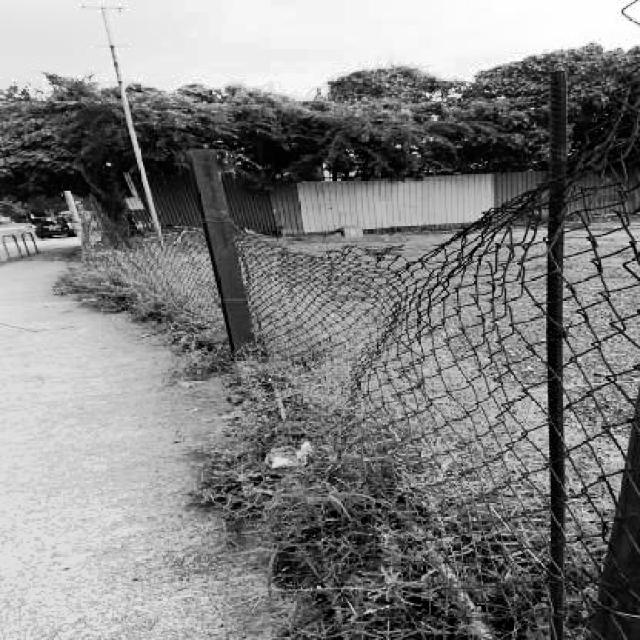anomaly-fence: (183, 99, 640, 556)
